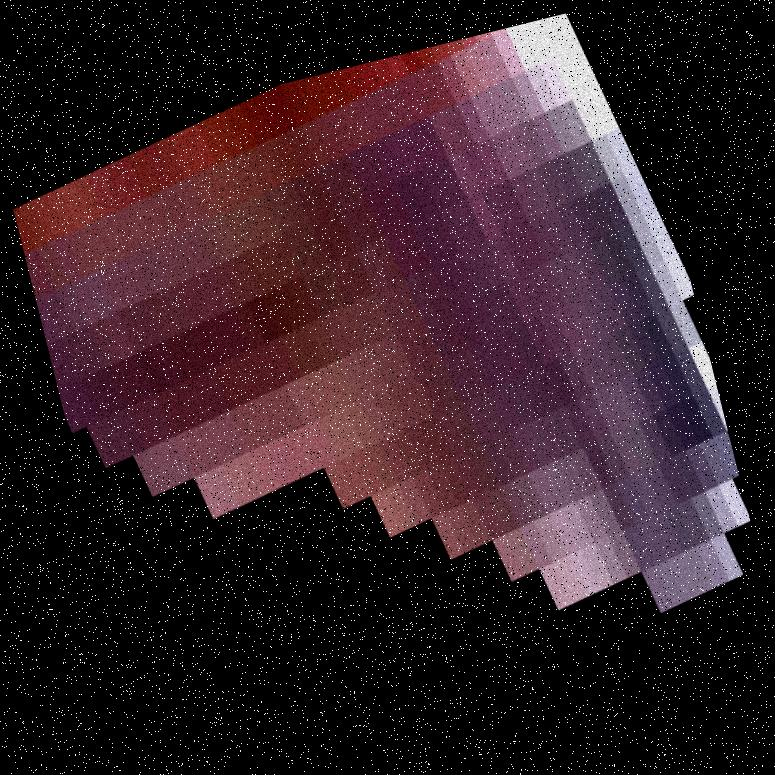Oculos: (316, 0, 774, 774)
